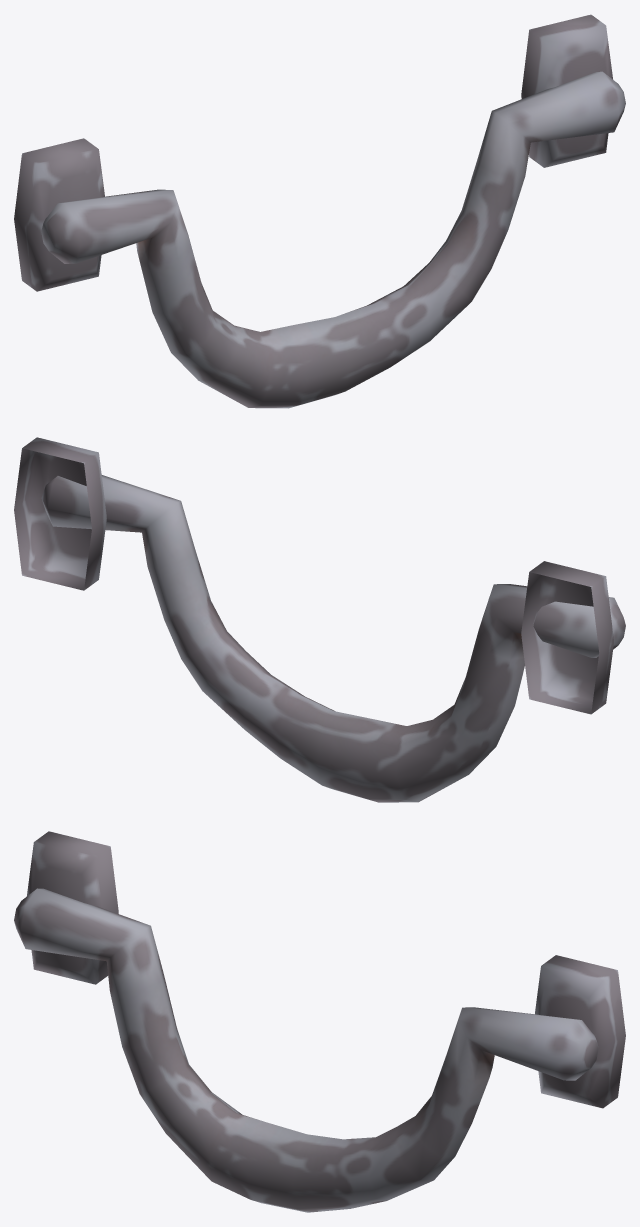
The model's file is Parts_Handle_Curved.fbx.
3 renders of one model, top to bottom at view 1: azimuth 30°, elevation 25°; view 2: azimuth 150°, elevation 25°; view 3: azimuth 330°, elevation 25°, orthographic.
Visible parts, largest first — view 1: Parts_Handle_Curved; view 2: Parts_Handle_Curved; view 3: Parts_Handle_Curved.
Part boxes in pixels (bbox=[...]): Parts_Handle_Curved: bbox=[14, 14, 625, 408]; Parts_Handle_Curved: bbox=[14, 437, 625, 802]; Parts_Handle_Curved: bbox=[14, 831, 625, 1212].
Bounding box in the file's own units: 31.17 × 14.95 × 4.02.
